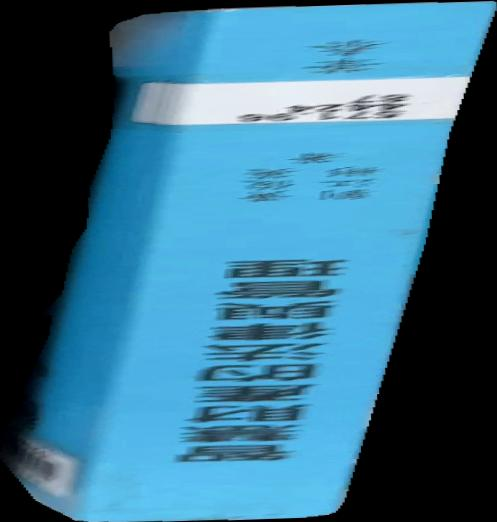reverse: (1, 1, 497, 522)
